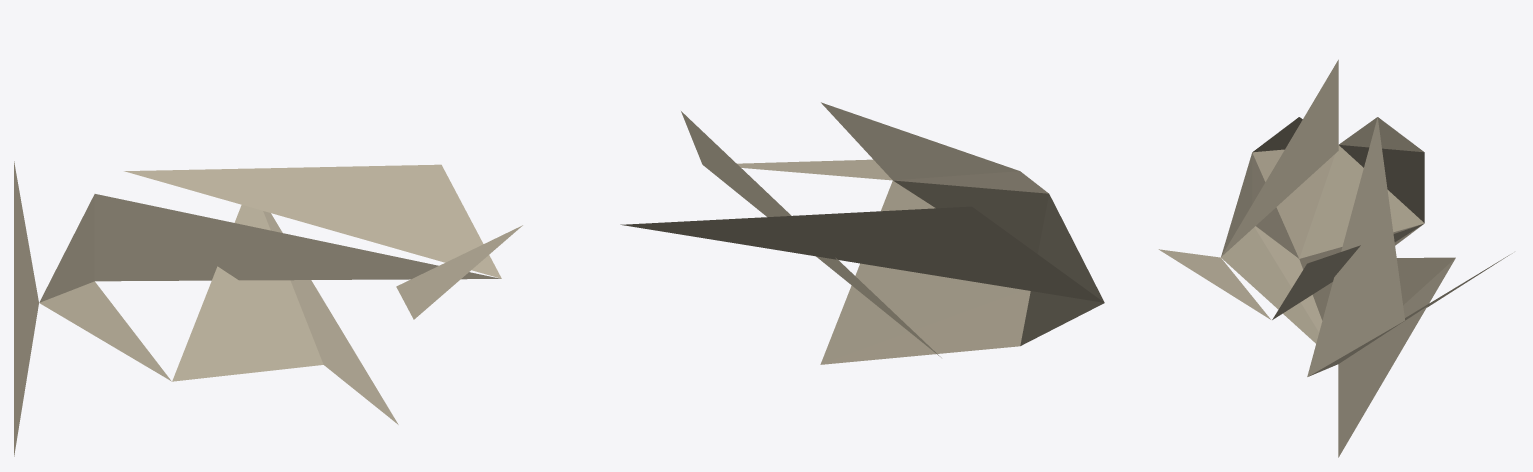
The model's file is cachema.glb.
The picture shows the model from 3 angles, left to right: view 1: azimuth 30°, elevation 25°; view 2: azimuth 150°, elevation 25°; view 3: azimuth 270°, elevation 25°; orthographic projection. The views are drawn at different scales.
Parts seen in each view (by area): view 1: cachema; view 2: cachema; view 3: cachema.
Part boxes in pixels (x1,y1,x2,y2): cachema: (14, 161, 522, 456); cachema: (620, 102, 1104, 364); cachema: (1158, 59, 1512, 457).
Bounding box in the file's own units: 1.3 × 1 × 0.92.
